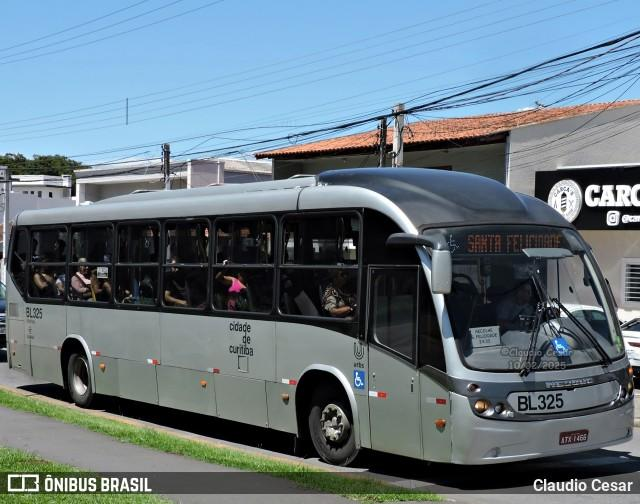SANTA FELICIDADE: (462, 229, 568, 257)
